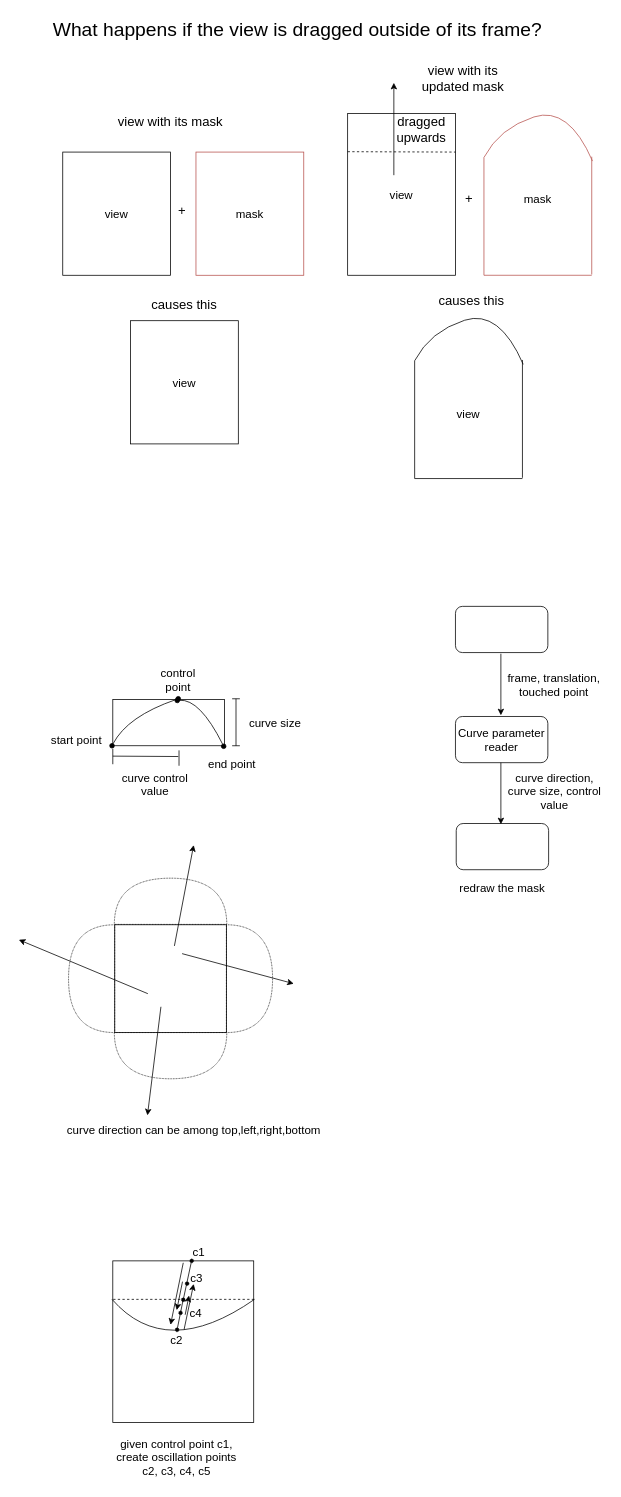
The diagram is 621 pixels wide and 1497 high, and some of its shapes have lost their labels. The centre of each missing label's shape, as x and y in pixels:
Pan gesture handler: [501,629]
Path renderer: [502,846]
